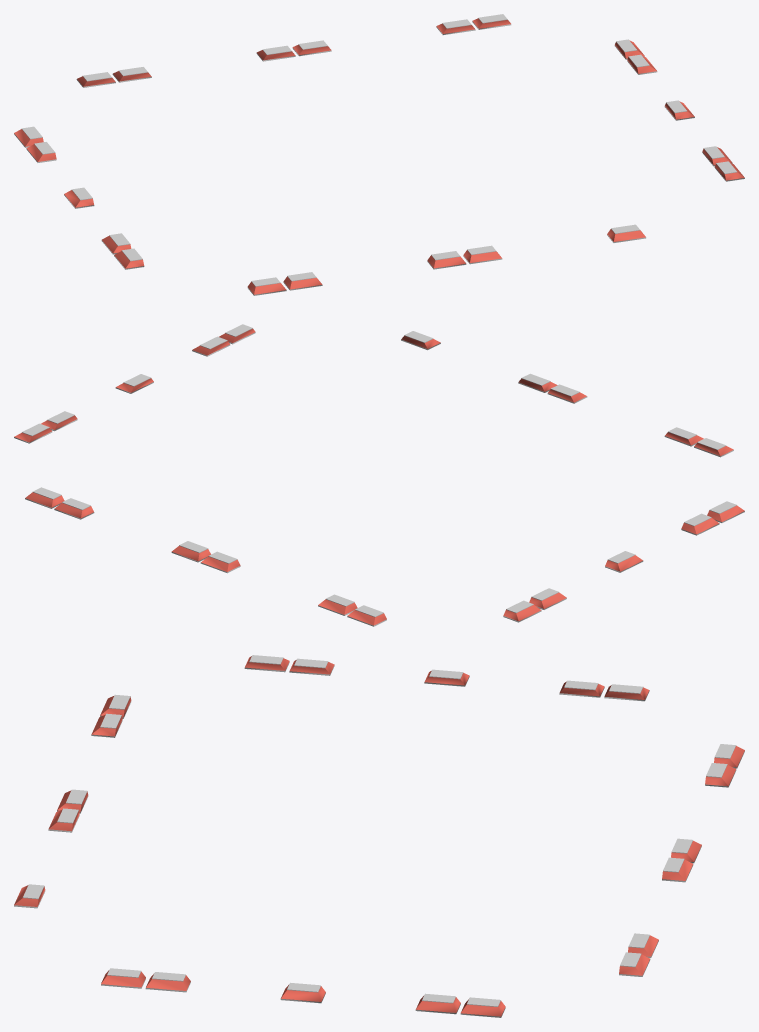
Rendered from StationMainDoorFix.fbx.
3 renders of one model, top to bottom at view 1: azimuth 30°, elevation 25°; view 2: azimuth 150°, elevation 25°; view 3: azimuth 270°, elevation 25°, orthographic. The views are drawn at different scales.
Visible parts, largest first — view 1: Cube.010, Cube.012, Cube.008, Cube.011, Cube.007; view 2: Cube.020, Cube.023, Cube.018, Cube.021, Cube.024, Cube.019, Cube.015, Cube.014, Cube.017, Cube.016, Cube.013; view 3: Cube.003, Cube.005, Cube.002, Cube.001, Cube.004, Cube.017, Cube.016, Cube.024, Cube.014, Cube.015, Cube.013, Cube.019 (+1 smaller).
Boxes of the visible parts, box(x1,y1,x2,y2) form: Cube.010: box(427, 251, 466, 269); Cube.012: box(247, 277, 286, 295); Cube.008: box(463, 245, 502, 264); Cube.011: box(283, 272, 322, 290); Cube.007: box(607, 224, 646, 242); Cube.020: box(200, 551, 240, 573); Cube.023: box(54, 498, 94, 519); Cube.018: box(347, 605, 386, 626); Cube.021: box(171, 541, 210, 562); Cube.024: box(25, 487, 64, 508); Cube.019: box(318, 594, 357, 615); Cube.015: box(605, 551, 643, 572); Cube.014: box(681, 513, 719, 535); Cube.017: box(503, 600, 541, 622); Cube.016: box(529, 588, 566, 609); Cube.013: box(707, 501, 744, 522); Cube.003: box(280, 982, 325, 1003); Cube.005: box(460, 997, 505, 1017); Cube.002: box(145, 972, 190, 992); Cube.001: box(101, 968, 145, 988); Cube.004: box(415, 993, 460, 1014); Cube.017: box(604, 684, 649, 701); Cube.016: box(559, 680, 604, 697); Cube.024: box(619, 952, 650, 976); Cube.014: box(289, 658, 334, 675); Cube.015: box(424, 669, 469, 686); Cube.013: box(244, 655, 289, 672); Cube.019: box(705, 763, 736, 787).
Bounding box in the file's own units: 167 × 1.68 × 144.
